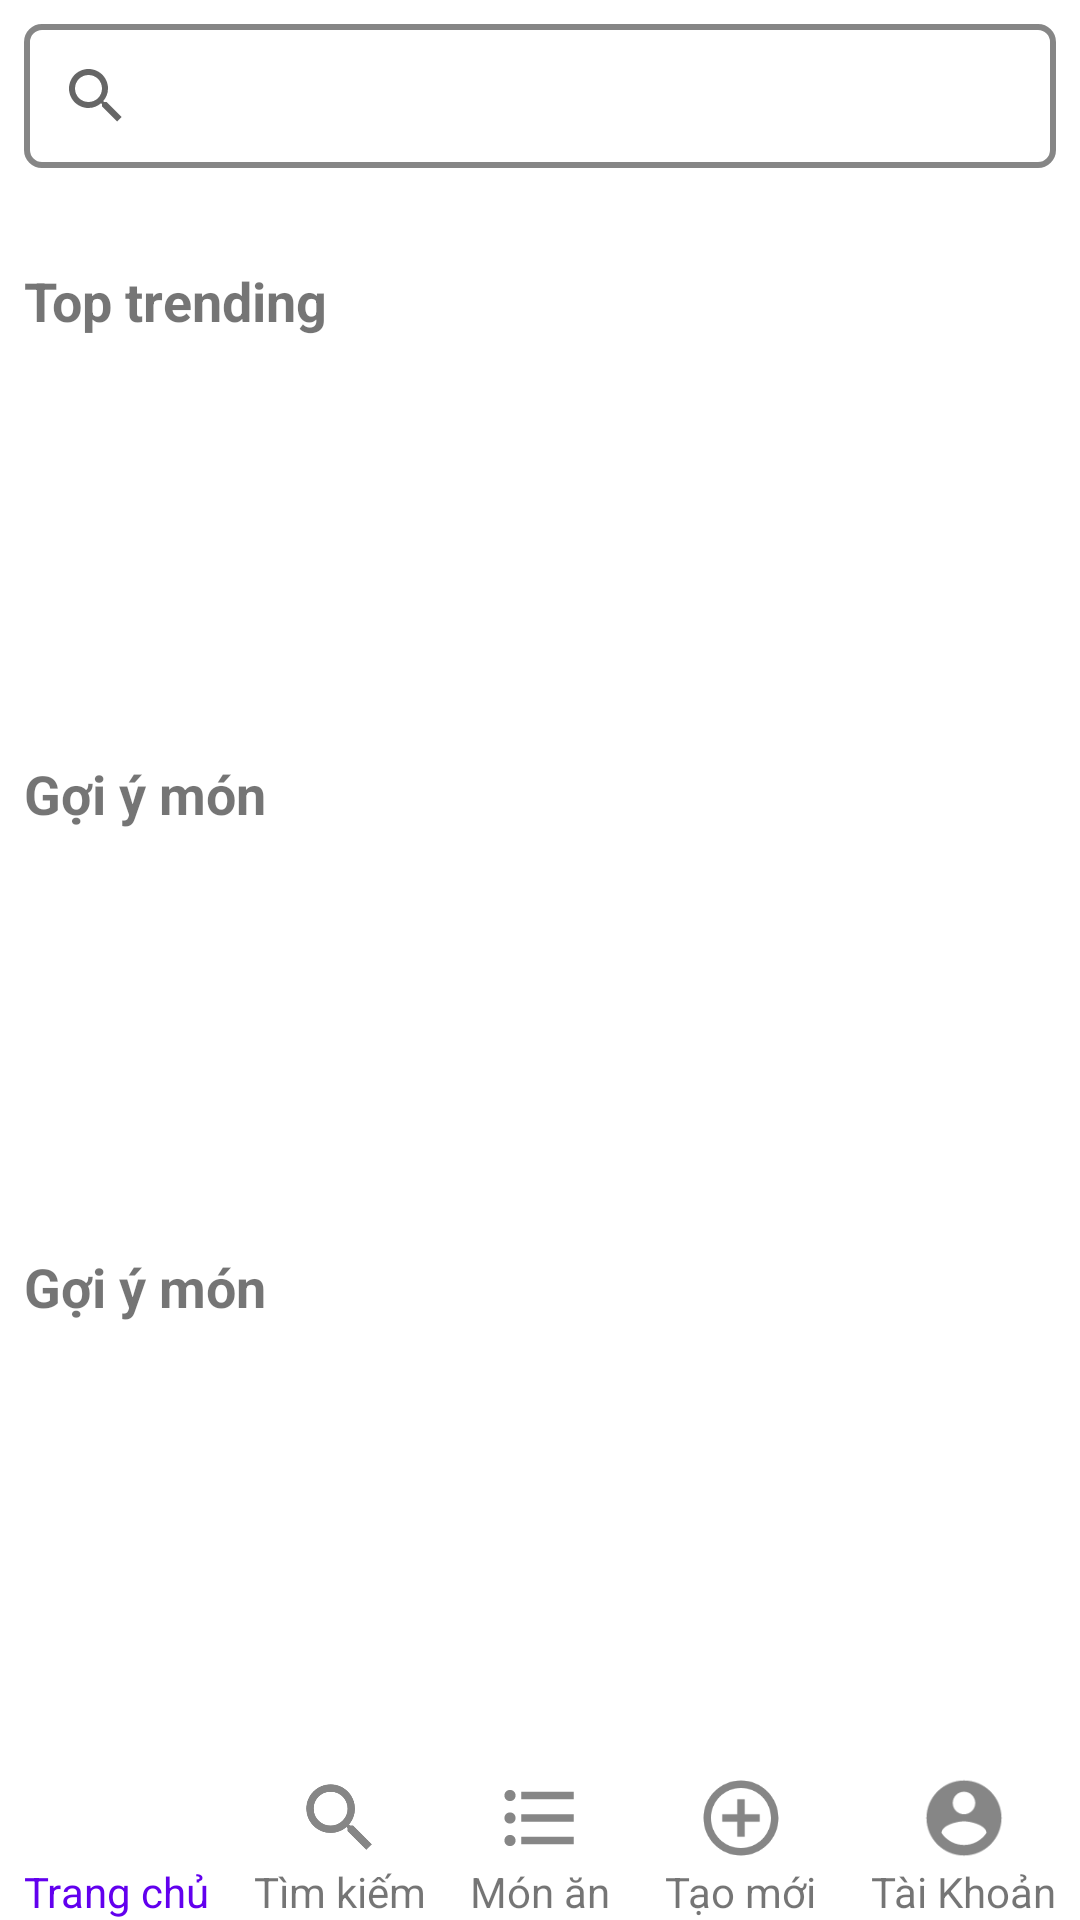

Icon bounding boxes for this 1080 x 1920 phone screenshot, format (x1, y1, x2, y2):
tao cong thuc: (703, 1780, 779, 1856)
